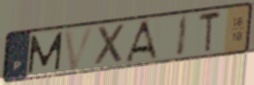A: (123, 18, 160, 63)
I: (175, 13, 190, 58)
M: (26, 30, 65, 76)
T: (197, 10, 223, 56)
V: (62, 25, 98, 73)
X: (94, 22, 129, 68)
